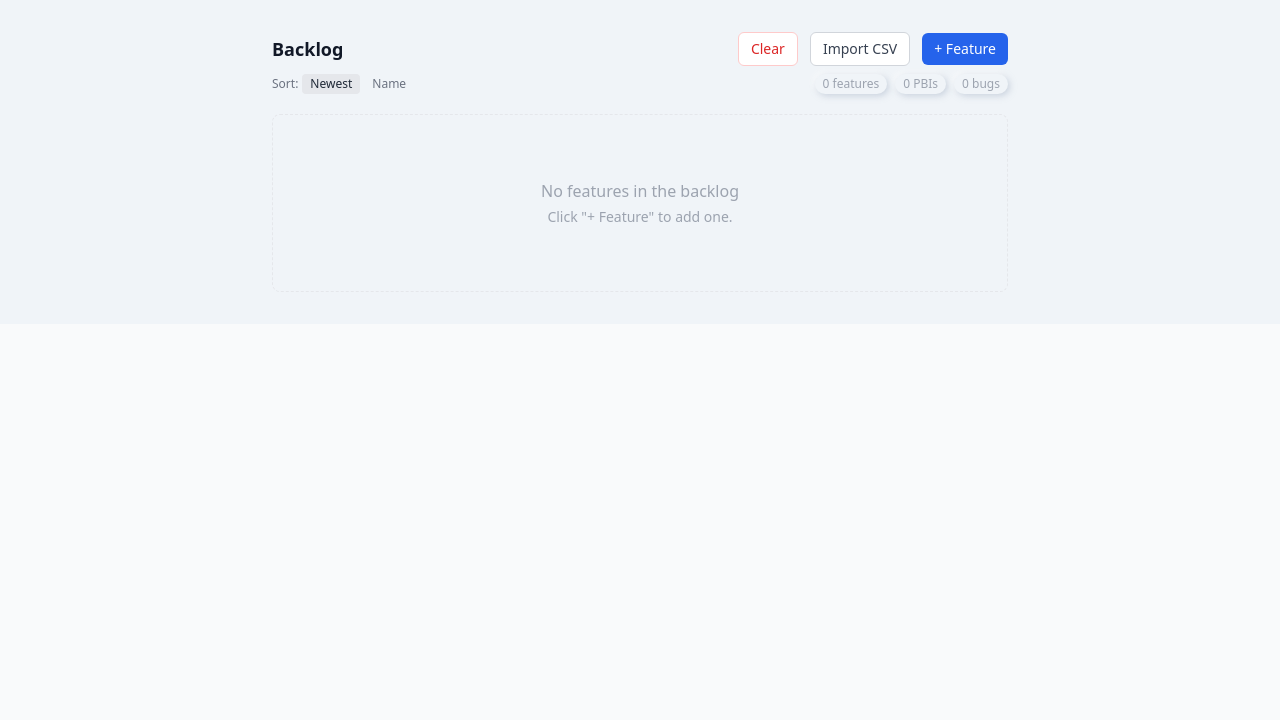
Test: BacklogPage › clicking + Feature in edit mode opens create feature modal
Click the button "+ Feature": (965, 49) [922, 33, 1008, 65]
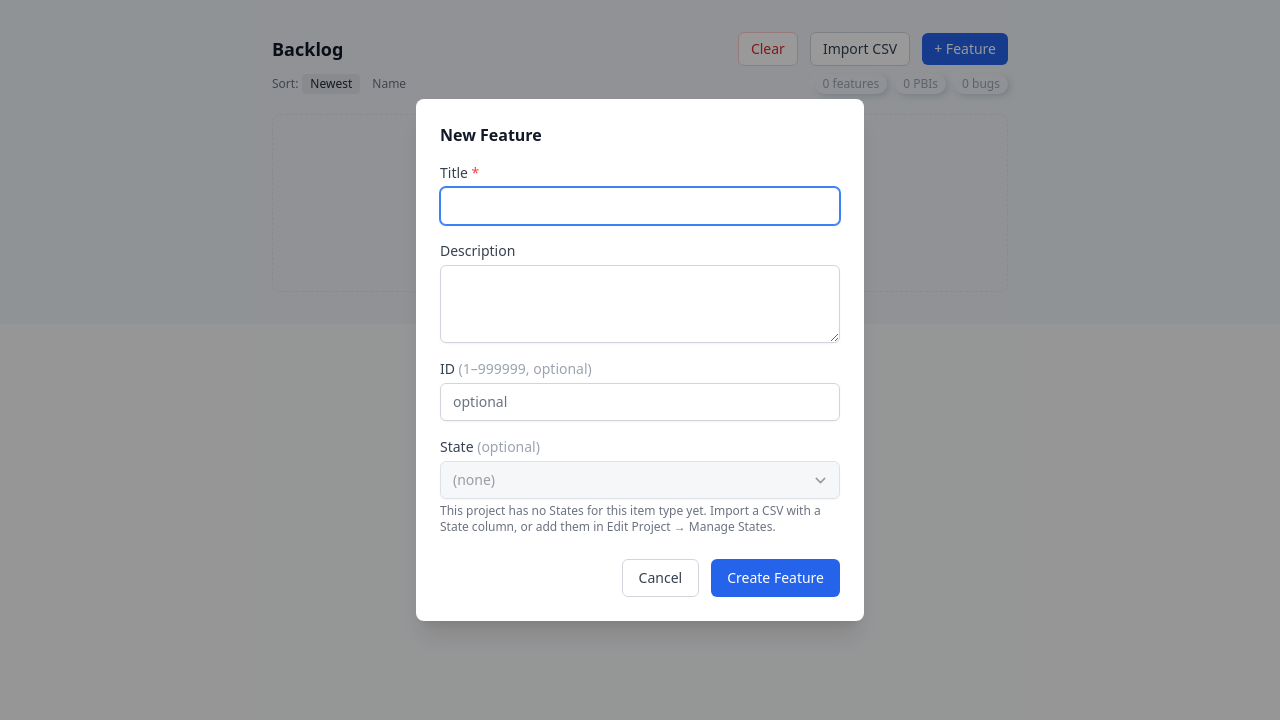
Check: the heading "New Feature" is shown, box [440, 124, 542, 146]
